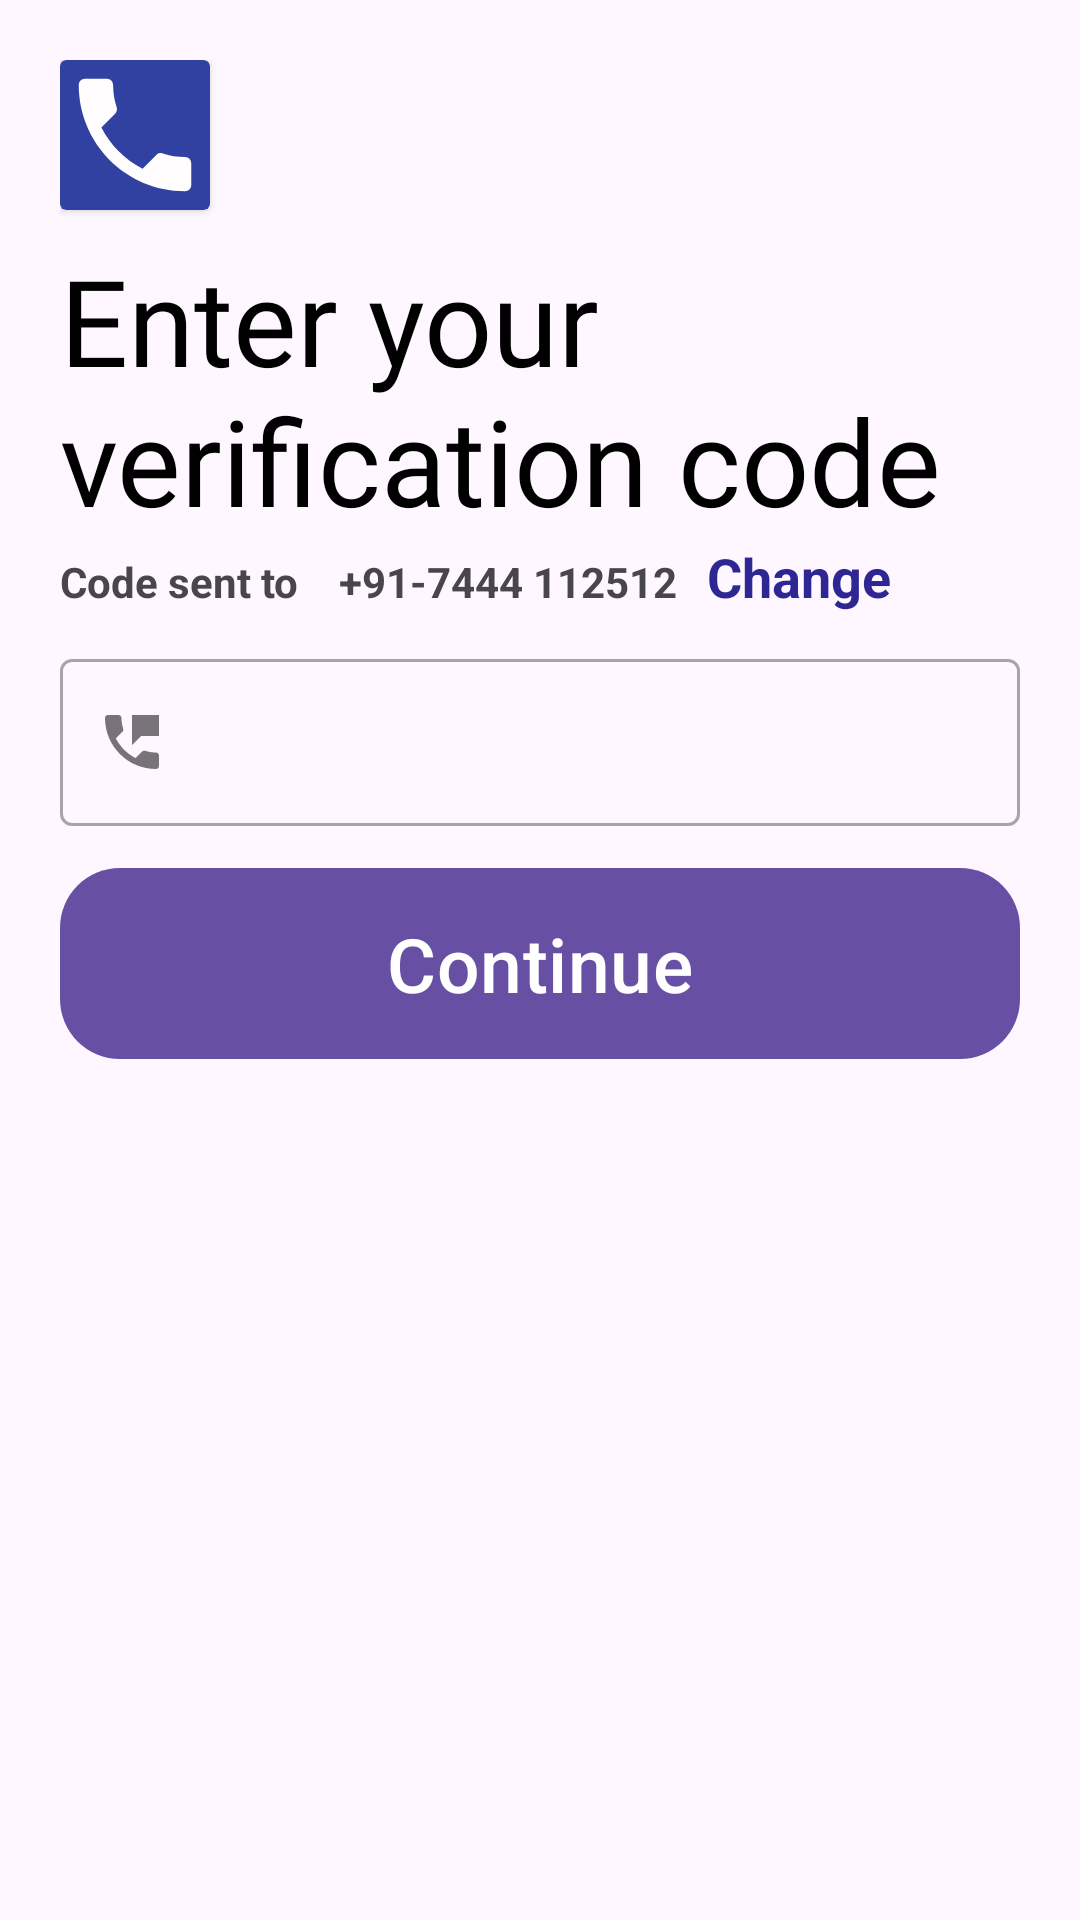

Icon click points for this 1080*1920 phone screenshot, format (x=x, y=y):
phone: (x=135, y=135)
